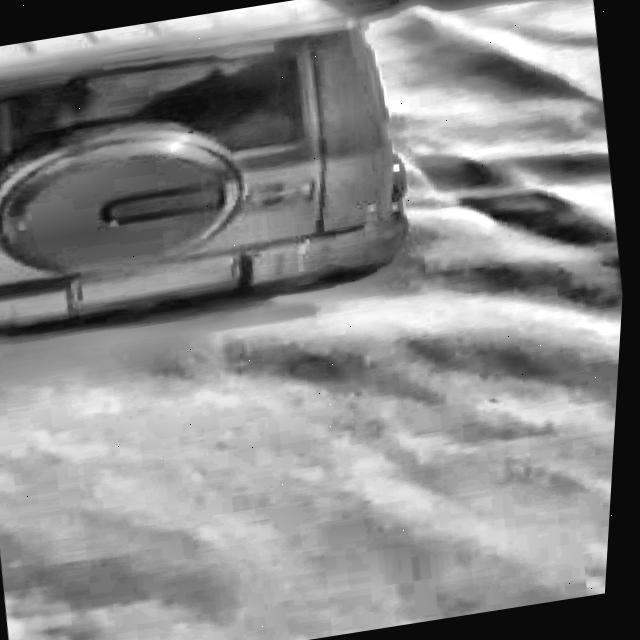light_vehicle: (0, 0, 432, 350)
